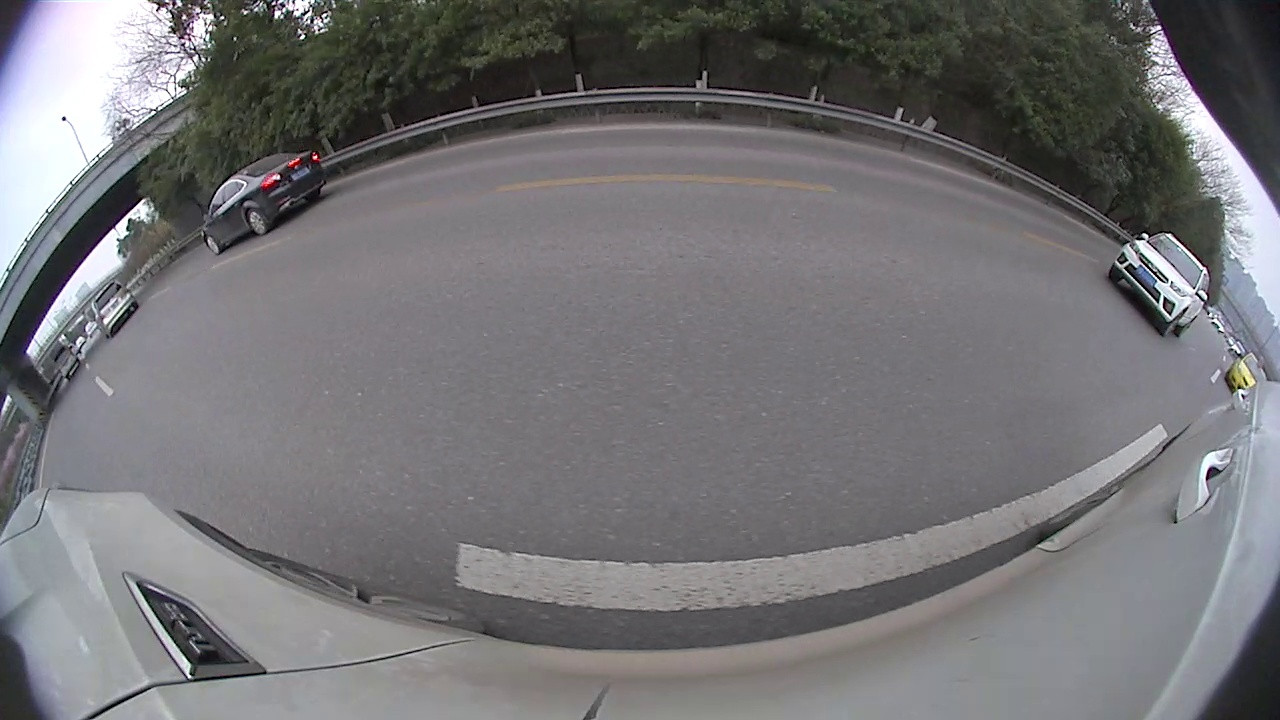car: (199, 148, 327, 256), (1106, 230, 1211, 340), (88, 277, 139, 341), (1223, 349, 1268, 395), (51, 344, 81, 381)
front: (1162, 309, 1186, 337), (205, 235, 220, 256)
rear: (247, 210, 267, 235)
